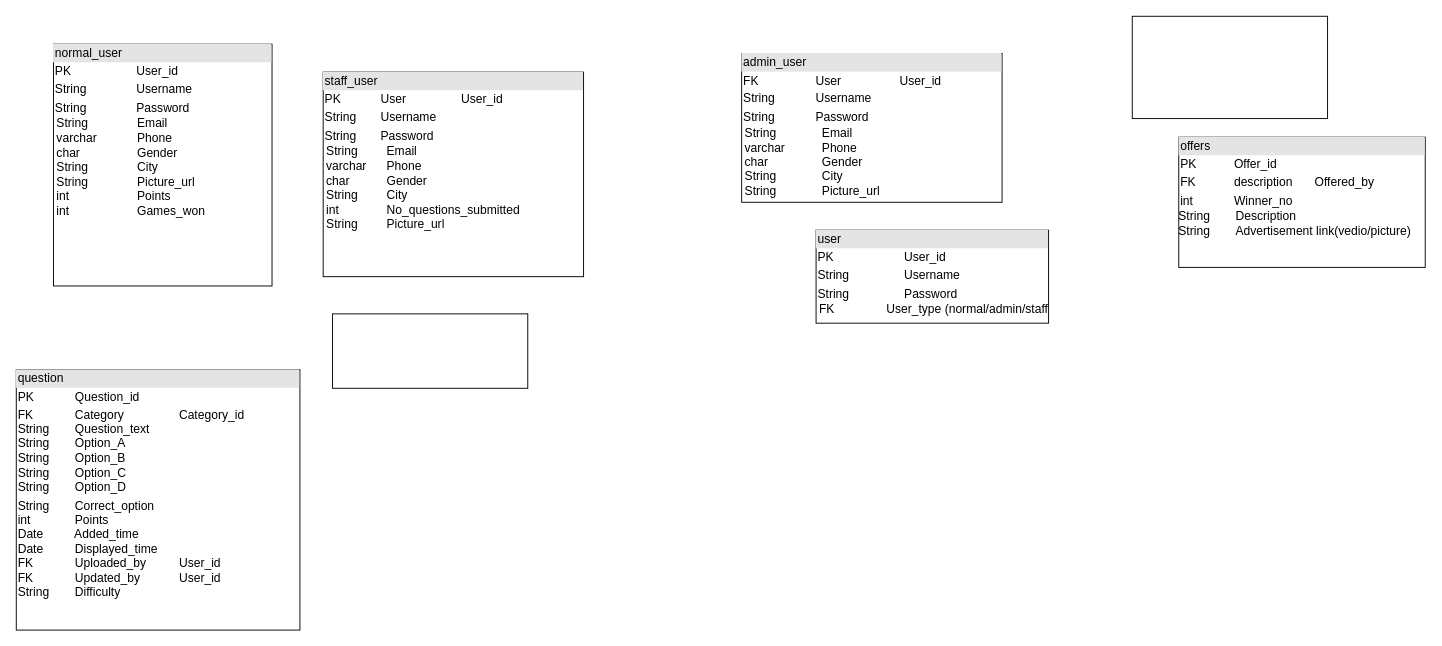
This 1442x646 diagram has some shape labels left out. The box of each missing label's shape, as (x1, y1, x2, y2) in pixels:
category PK Category_id String Name int Amount_of_questions: (332, 313, 528, 388)
company PK Company_id String Name String Location int Offers_no: (1131, 15, 1328, 119)
